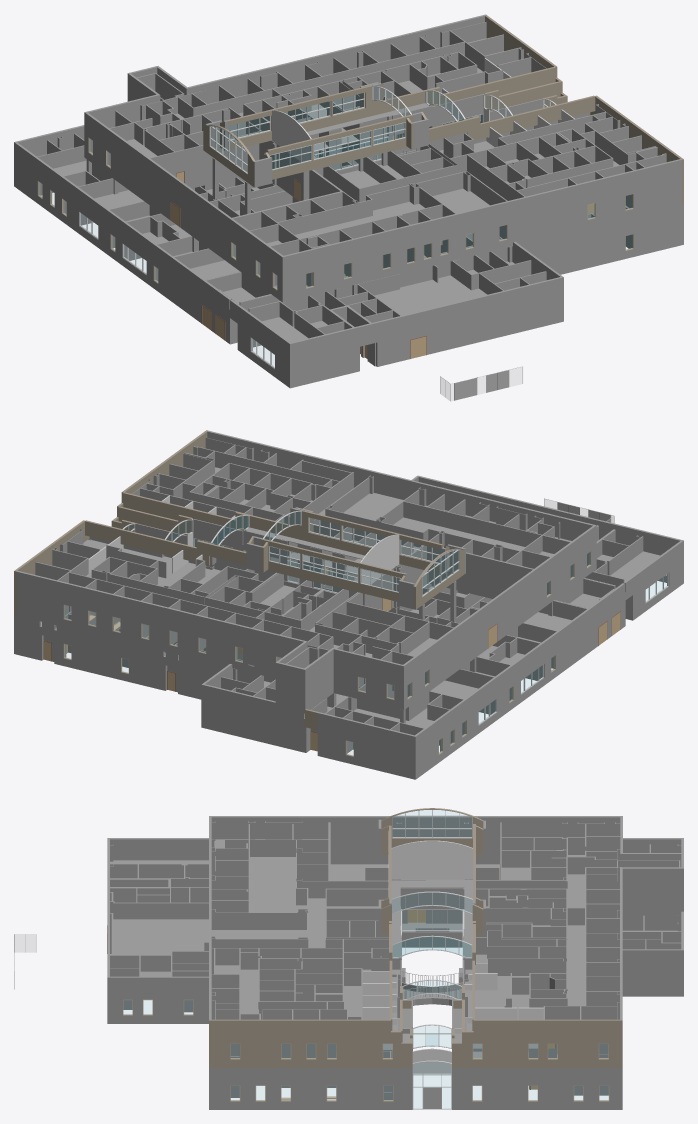
The picture shows the model from 3 angles, top to bottom: view 1: azimuth 30°, elevation 25°; view 2: azimuth 150°, elevation 25°; view 3: azimuth 270°, elevation 25°; orthographic projection. The views are drawn at different scales.
Parts seen in each view (by area): view 1: 3LbNSBzHHBSuzhUUvuwAbw, 3LbNSBzHHBSuzhUUvuwBdQ, 3LbNSBzHHBSuzhUUvuwARp, 3LbNSBzHHBSuzhUUvuwBYQ, 3LbNSBzHHBSuzhUUvuwAJL, 3LbNSBzHHBSuzhUUvuwBG4, 0$T_kKFfj6eQu9LjJc1L4V, 35QeWibpT4DfyH3NIf2o$C, 2j55VthSj3Lu0J6fyrpG5t, 2$JMvrgrHFRuiT5gJ_sd8v, 3NhaIUfh12PAdrGa$S3ymK, 2_TmT90dD0x8tJSTjyTb4R (+44 smaller); view 2: 3LbNSBzHHBSuzhUUvuwAJL, 3LbNSBzHHBSuzhUUvuwARp, 3LbNSBzHHBSuzhUUvuwAbw, 3LbNSBzHHBSuzhUUvuwB0x, 3LbNSBzHHBSuzhUUvuwBEp, 3LbNSBzHHBSuzhUUvuwBG4, 3LbNSBzHHBSuzhUUvuwB4_, 3LbNSBzHHBSuzhUUvuwAOJ, 0$T_kKFfj6eQu9LjJc1L4V, 3NhaIUfh12PAdrGa$S3xYT, 3LbNSBzHHBSuzhUUvuwBdQ, 35QeWibpT4DfyH3NIf2o$C (+41 smaller); view 3: 3LbNSBzHHBSuzhUUvuwARp, 3LbNSBzHHBSuzhUUvuwAYU, 0otfaO0qPDAhynjJ6DnL_y, 3LbNSBzHHBSuzhUUvuwAes, 3LbNSBzHHBSuzhUUvuwBiP, 3LbNSBzHHBSuzhUUvuwBWM, 2_TmT90dD0x8tJSTjyTb4R, 0lHL5LPIr3RuynIxjjrPON, 3LbNSBzHHBSuzhUUvuwBLq, 3LbNSBzHHBSuzhUUvuwATn, 0hfBjSvBD7Axm4HbiOC5aW, 2j55VthSj3Lu0J6fyrpHCf (+72 smaller).
Part boxes in pixels (bbox=[...]): 3LbNSBzHHBSuzhUUvuwAbw: bbox=[281, 159, 681, 302]; 3LbNSBzHHBSuzhUUvuwBdQ: bbox=[288, 277, 561, 388]; 3LbNSBzHHBSuzhUUvuwARp: bbox=[84, 111, 283, 300]; 3LbNSBzHHBSuzhUUvuwBYQ: bbox=[512, 205, 681, 274]; 3LbNSBzHHBSuzhUUvuwAJL: bbox=[188, 15, 484, 104]; 3LbNSBzHHBSuzhUUvuwBG4: bbox=[146, 238, 231, 343]; 0$T_kKFfj6eQu9LjJc1L4V: bbox=[14, 141, 81, 233]; 35QeWibpT4DfyH3NIf2o$C: bbox=[192, 41, 464, 116]; 2j55VthSj3Lu0J6fyrpG5t: bbox=[267, 114, 413, 179]; 2$JMvrgrHFRuiT5gJ_sd8v: bbox=[227, 85, 383, 150]; 3NhaIUfh12PAdrGa$S3ymK: bbox=[150, 131, 259, 188]; 2_TmT90dD0x8tJSTjyTb4R: bbox=[374, 275, 487, 315]; 3LbNSBzHHBSuzhUUvuwAJL: bbox=[16, 570, 304, 678]; 3LbNSBzHHBSuzhUUvuwARp: bbox=[401, 525, 595, 709]; 3LbNSBzHHBSuzhUUvuwAbw: bbox=[207, 430, 596, 569]; 3LbNSBzHHBSuzhUUvuwB0x: bbox=[317, 712, 414, 778]; 3LbNSBzHHBSuzhUUvuwBEp: bbox=[56, 625, 164, 690]; 3LbNSBzHHBSuzhUUvuwBG4: bbox=[542, 583, 624, 684]; 3LbNSBzHHBSuzhUUvuwB4_: bbox=[203, 684, 276, 745]; 3LbNSBzHHBSuzhUUvuwAOJ: bbox=[332, 648, 402, 709]; 0$T_kKFfj6eQu9LjJc1L4V: bbox=[413, 690, 478, 779]; 3NhaIUfh12PAdrGa$S3xYT: bbox=[403, 501, 570, 553]; 3LbNSBzHHBSuzhUUvuwBdQ: bbox=[418, 476, 683, 583]; 35QeWibpT4DfyH3NIf2o$C: bbox=[69, 572, 333, 647]; 3LbNSBzHHBSuzhUUvuwARp: bbox=[211, 816, 622, 864]; 3LbNSBzHHBSuzhUUvuwAYU: bbox=[209, 1019, 412, 1067]; 0otfaO0qPDAhynjJ6DnL_y: bbox=[209, 1068, 412, 1109]; 3LbNSBzHHBSuzhUUvuwAes: bbox=[452, 1019, 622, 1067]; 3LbNSBzHHBSuzhUUvuwBiP: bbox=[452, 1068, 622, 1109]; 3LbNSBzHHBSuzhUUvuwBWM: bbox=[107, 976, 208, 1023]; 2_TmT90dD0x8tJSTjyTb4R: bbox=[113, 919, 208, 954]; 0lHL5LPIr3RuynIxjjrPON: bbox=[391, 840, 472, 879]; 3LbNSBzHHBSuzhUUvuwBLq: bbox=[622, 949, 683, 996]; 3LbNSBzHHBSuzhUUvuwATn: bbox=[620, 867, 681, 915]; 0hfBjSvBD7Axm4HbiOC5aW: bbox=[250, 857, 306, 912]; 2j55VthSj3Lu0J6fyrpHCf: bbox=[391, 880, 472, 957].
Bounding box in the file's own units: 52.68 × 14.75 × 66.1.
